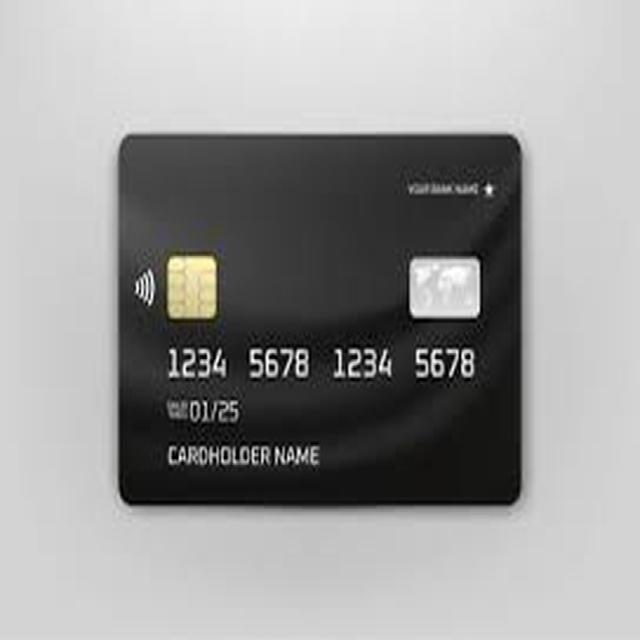card: (102, 122, 545, 506)
